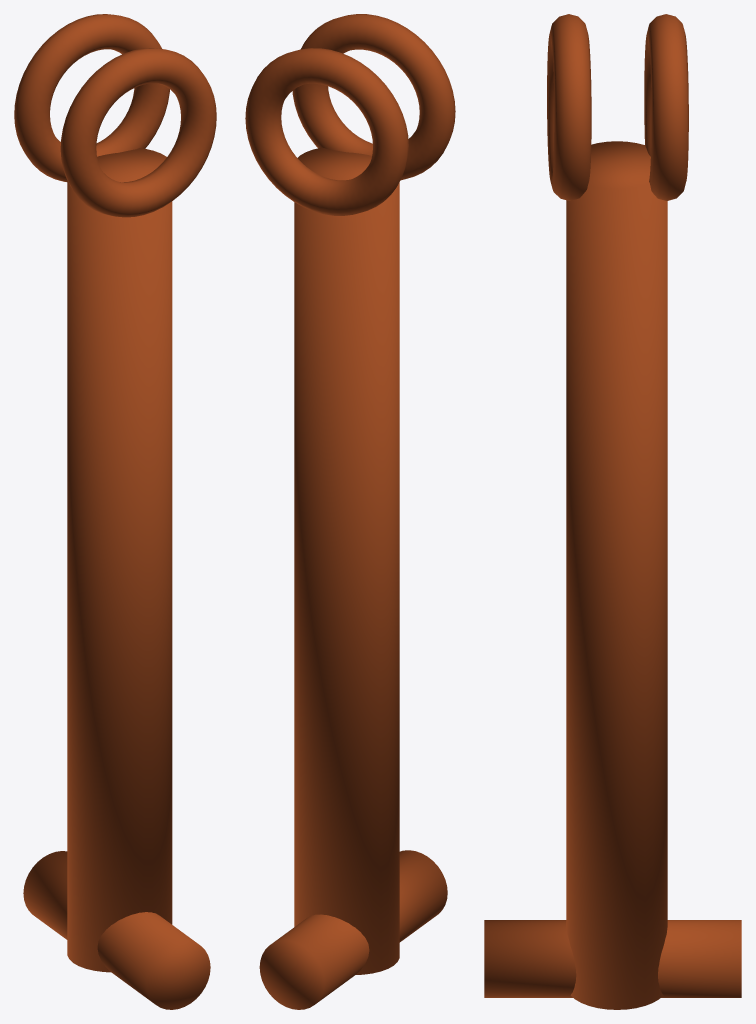
Rendered from 4bar.obj.
3 views of the same model, side by side, from view 1: azimuth 30°, elevation 25°; view 2: azimuth 150°, elevation 25°; view 3: azimuth 270°, elevation 25° (orthographic). The views are drawn at different scales.
Visible parts, largest first — view 1: Cube; view 2: Cube; view 3: Cube.
Boxes of the visible parts, box(x1,y1,x2,y2) form: Cube: box(14, 14, 216, 1009); Cube: box(245, 14, 455, 1009); Cube: box(484, 14, 741, 1009).
Size of the model in its own units: 0.1943 by 1.11 by 0.2671.
